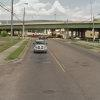Bridge: (4, 10, 99, 36)
